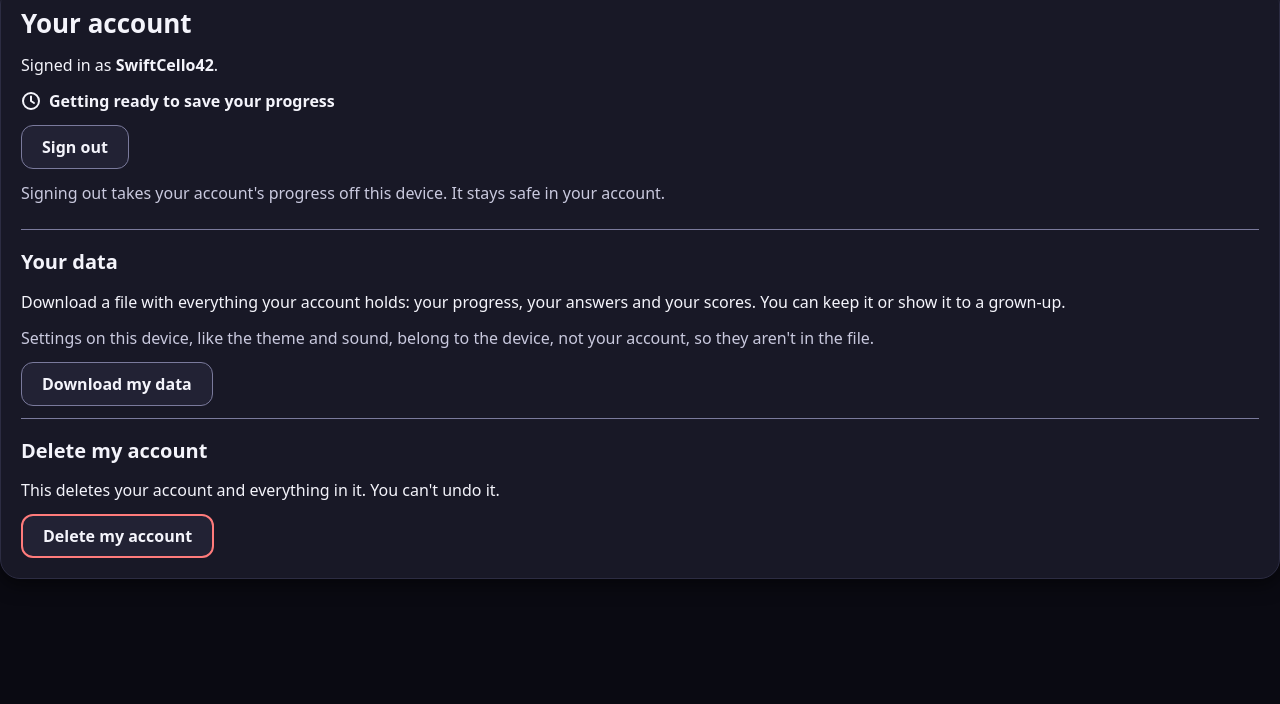
Test: Delete my account: two steps › step 2 asks for the code name; the destructive button is off until it matches and never has focus on arrival
expect the text "SwiftCello42" is shown: met, box [116, 54, 214, 76]
Click the button "Delete my account" at (118, 536), box [21, 514, 214, 558]
(page scrolled)
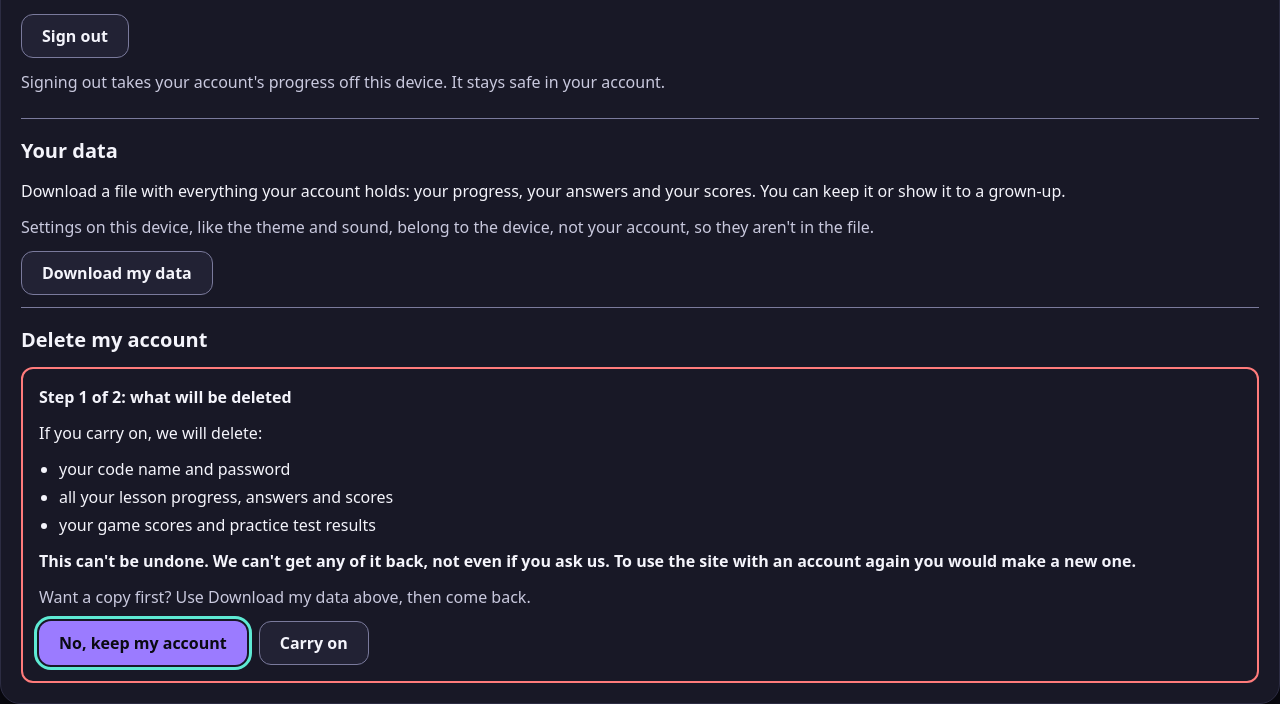
Click the button "Carry on" at (314, 643), box [259, 621, 369, 665]
(page scrolled)
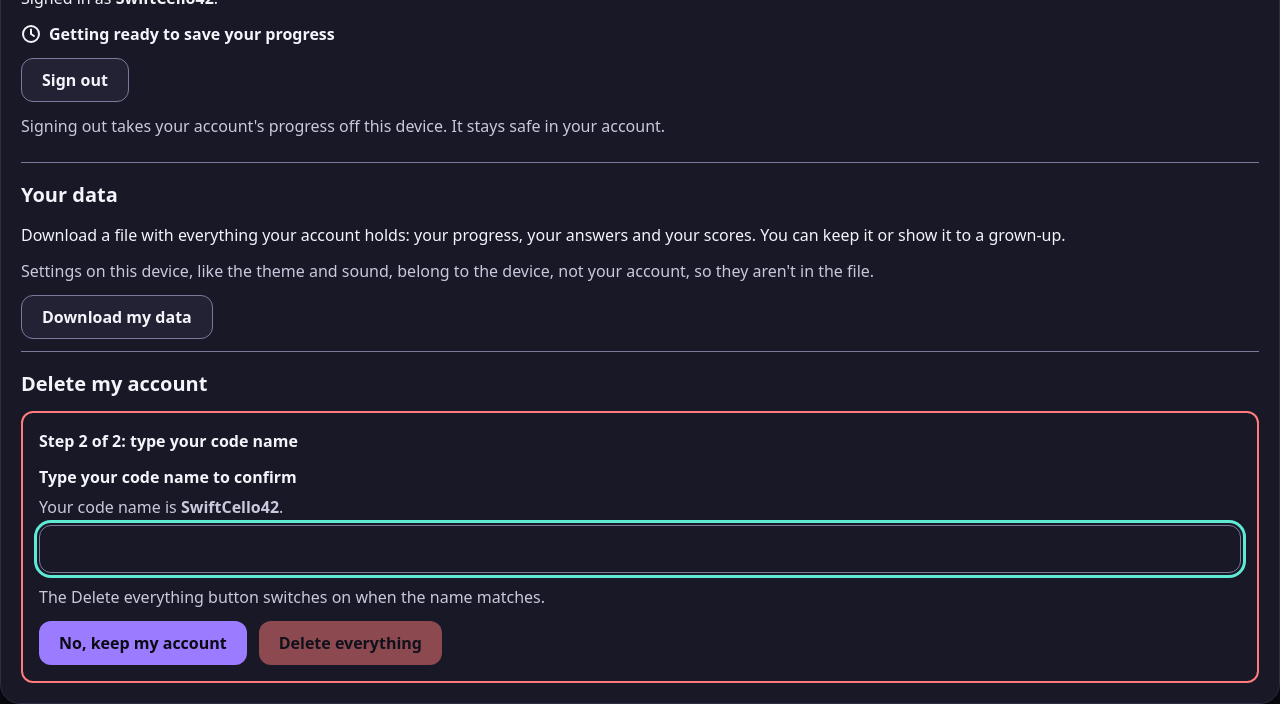
expect the button "Delete everything" is disabled: met, box [259, 621, 442, 665]
expect the element with test id "delete-account" shows "The Delete everything button switches on when the name matches.": met, box [39, 586, 545, 608]
Type "SwiftCello4" into the field labelled "Type your code name to confirm" at (640, 549), box [39, 525, 1241, 573]
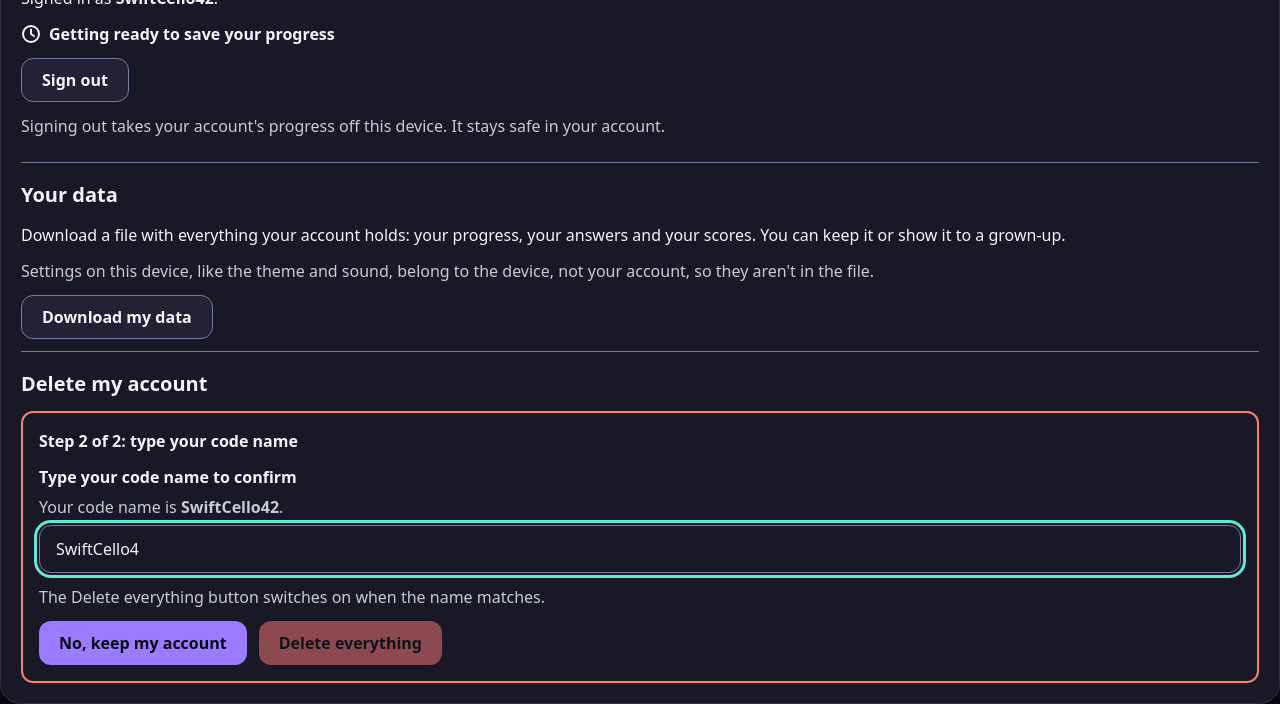
expect the button "Delete everything" is disabled: met, box [259, 621, 442, 665]
Type "3" into the field labelled "Type your code name to confirm" at (640, 549), box [39, 525, 1241, 573]
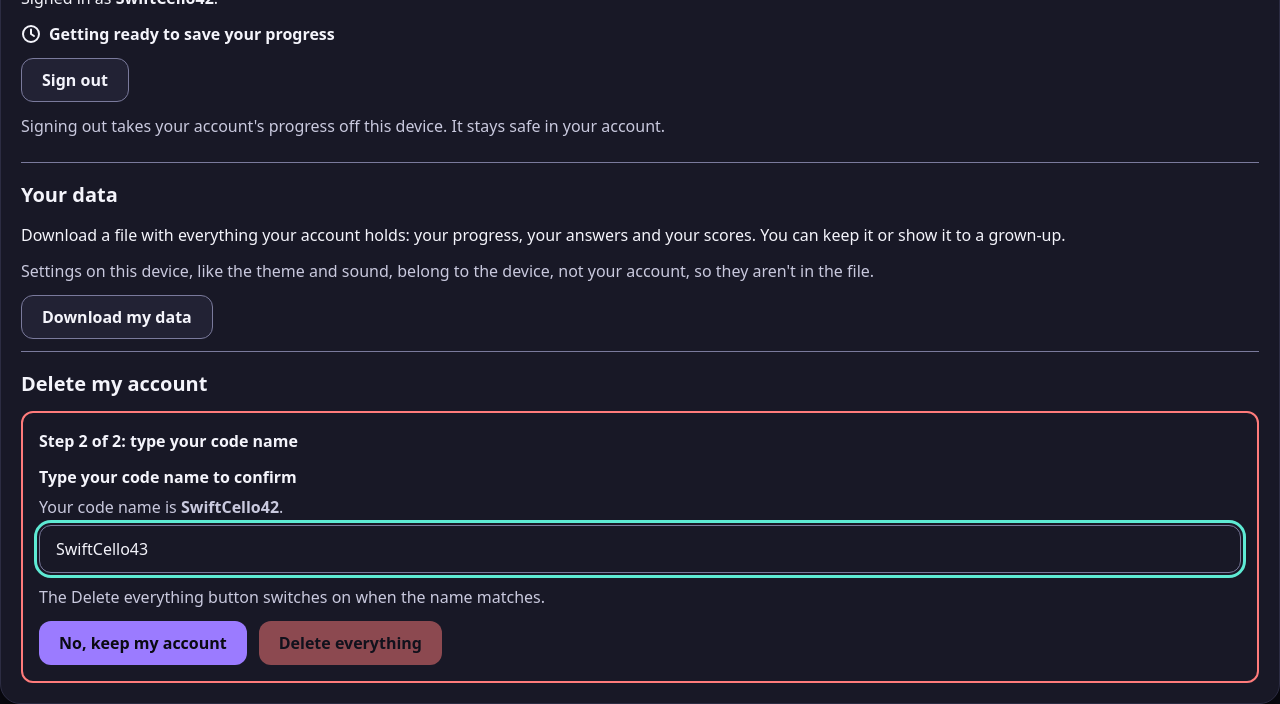
expect the button "Delete everything" is disabled: met, box [259, 621, 442, 665]
Replace the text in the field labelled "Type your code name to confirm" with "swift-cello42" at (640, 549), box [39, 525, 1241, 573]
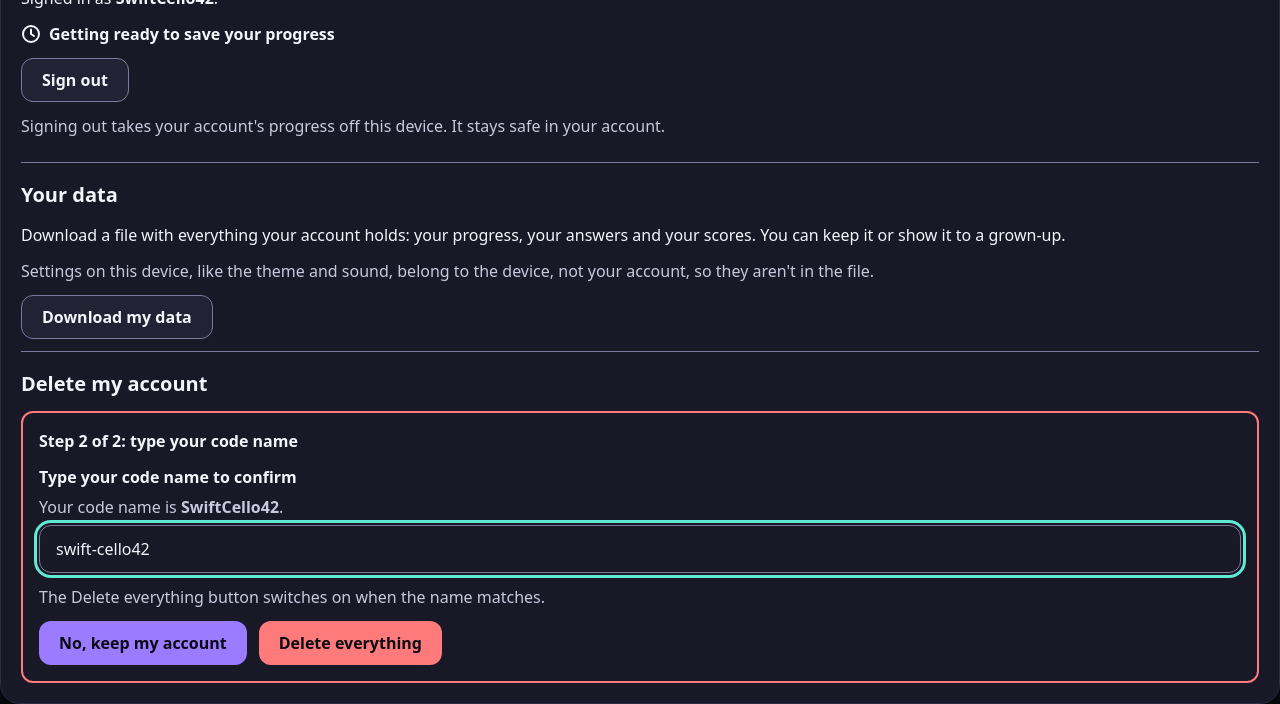
expect the button "Delete everything" is enabled: met, box [259, 621, 442, 665]
